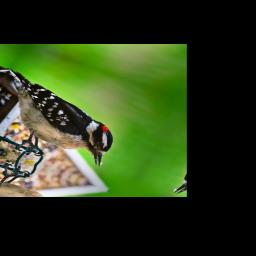Woodpecker: (0, 69, 135, 179)
